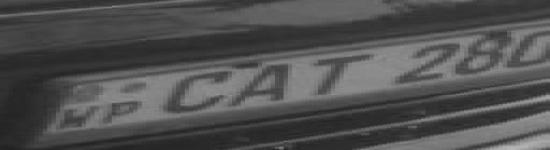0: (504, 29, 550, 70)
2: (389, 42, 467, 87)
8: (459, 32, 519, 74)
A: (229, 62, 295, 111)
C: (160, 69, 233, 115)
P: (101, 100, 145, 125)
T: (310, 52, 381, 98)
W: (55, 104, 105, 130)
